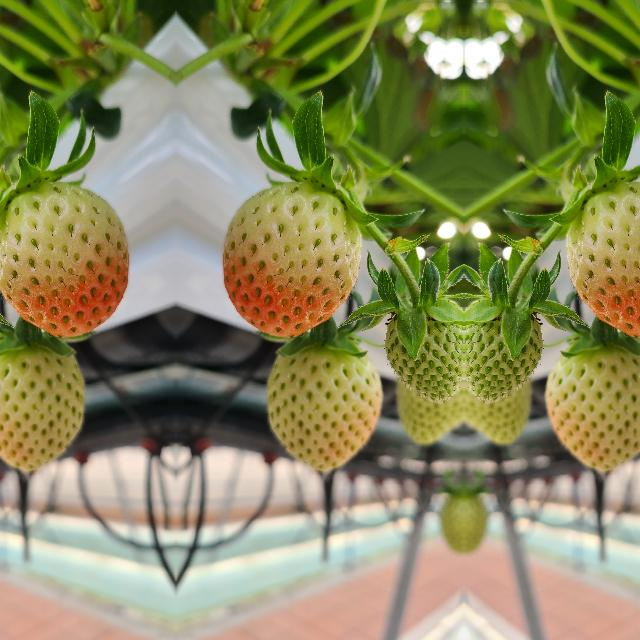Health_25: (386, 300, 462, 402), (464, 300, 540, 402)
Health_50: (222, 181, 361, 337), (0, 181, 128, 337), (254, 346, 386, 474), (540, 345, 640, 474), (0, 345, 95, 474), (565, 181, 640, 337)
